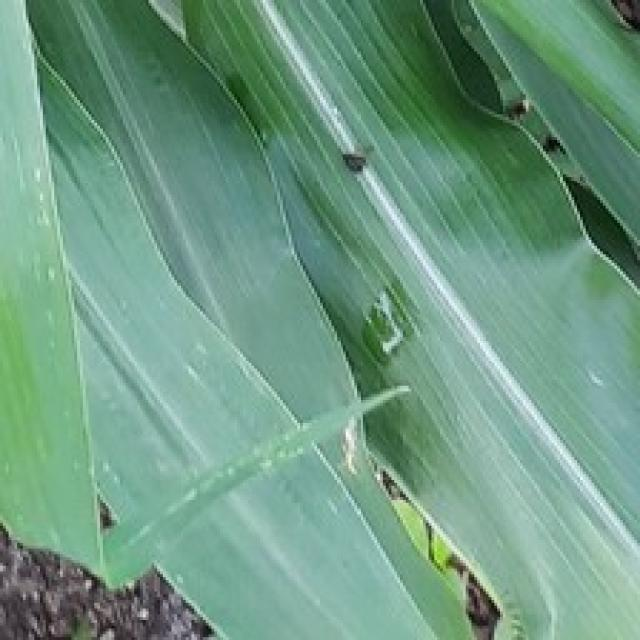Corn: (0, 0, 637, 637), (0, 0, 114, 588)
